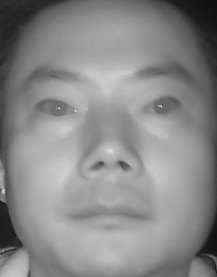eye: (33, 92, 84, 124), (134, 91, 183, 121)
mouth: (63, 190, 159, 240)
